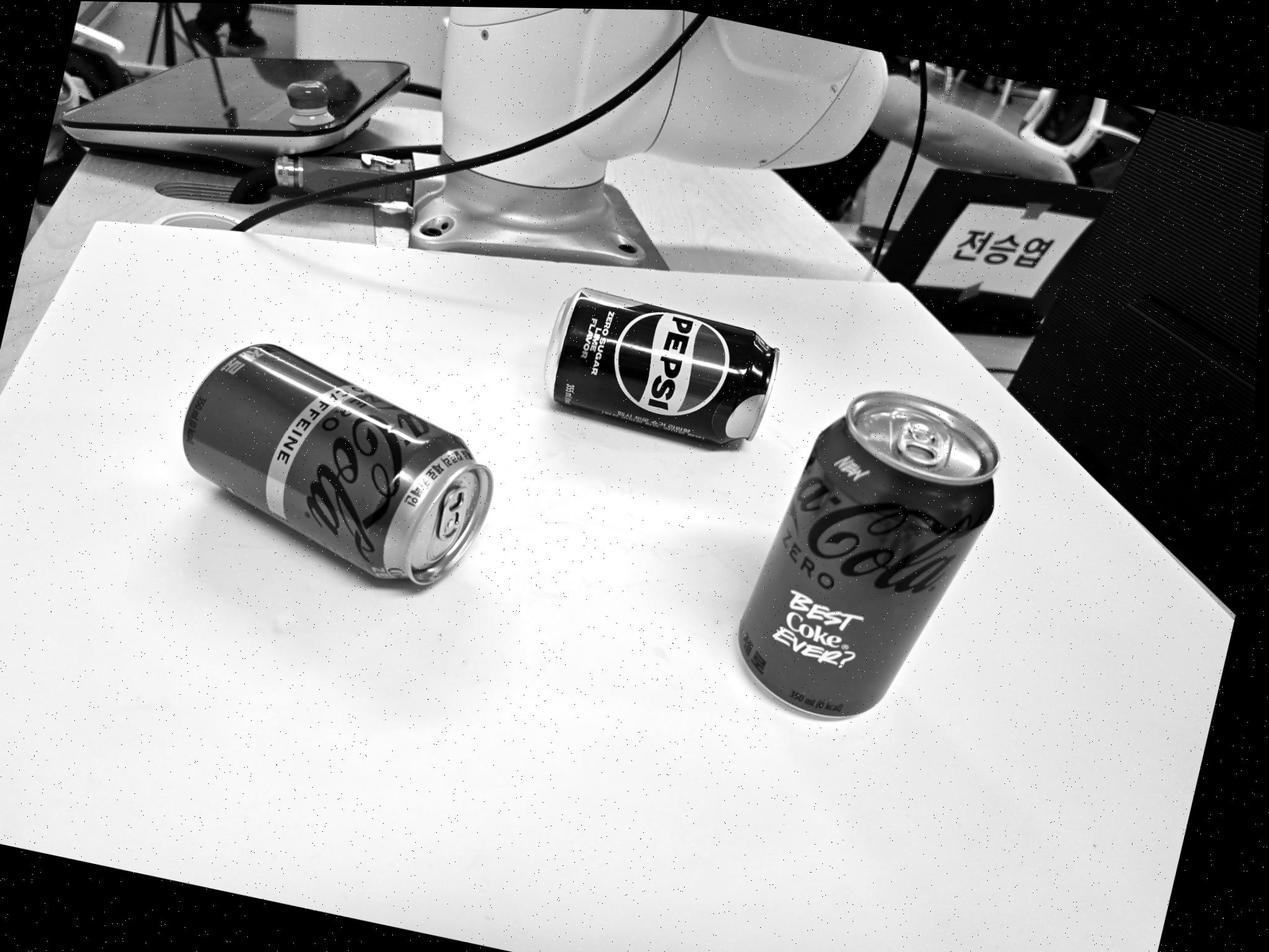can_coke_decaf: (181, 348, 498, 592)
can_coke_zero: (733, 392, 998, 722)
can_pepsi_zero: (534, 283, 782, 455)
